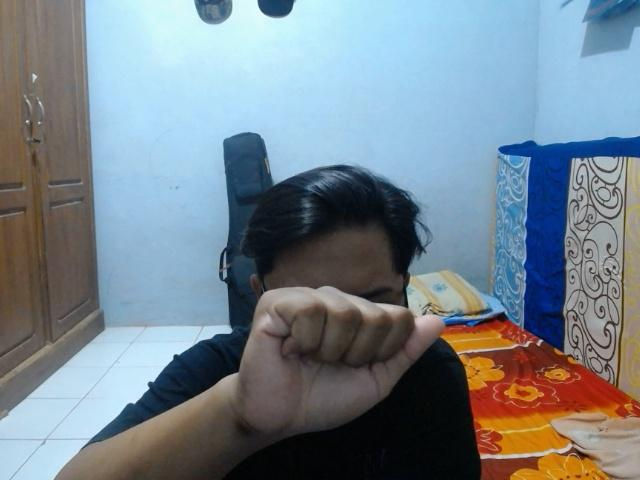Grab: (231, 280, 451, 443)
